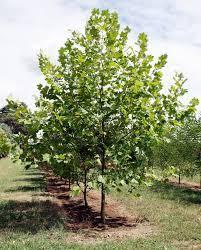tree: (13, 5, 199, 230)
